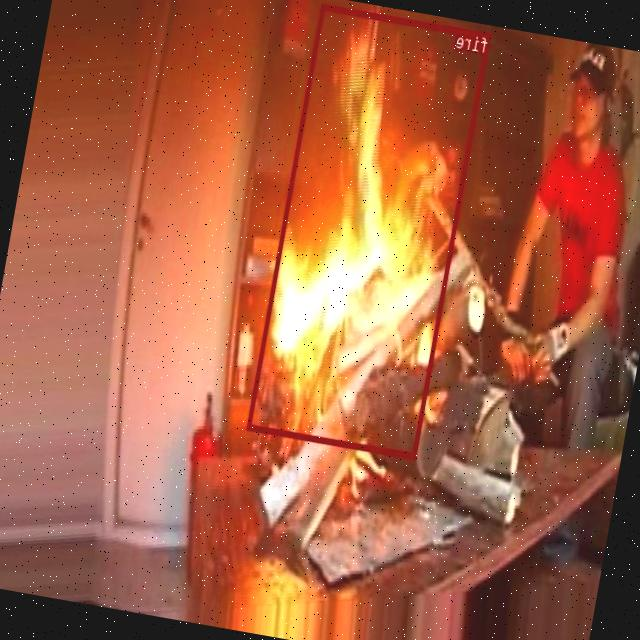fire: (248, 2, 492, 458)
